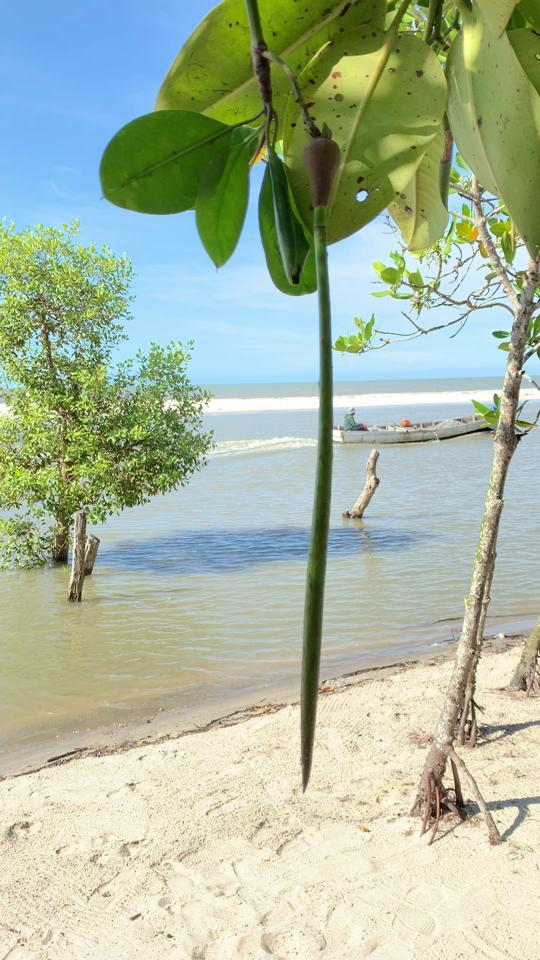setengah matang: (283, 107, 354, 800)
